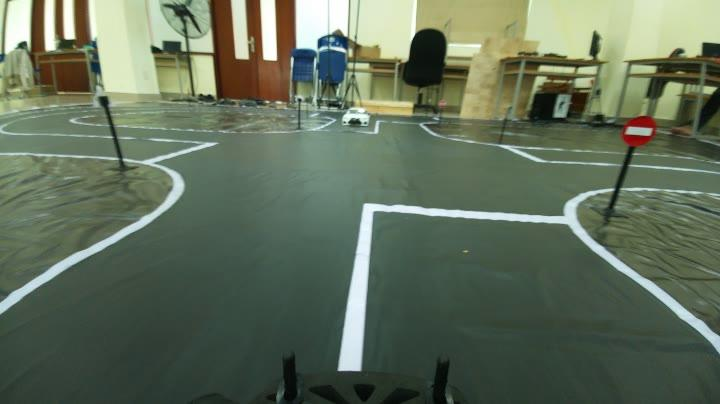no_entry: (618, 107, 660, 150)
